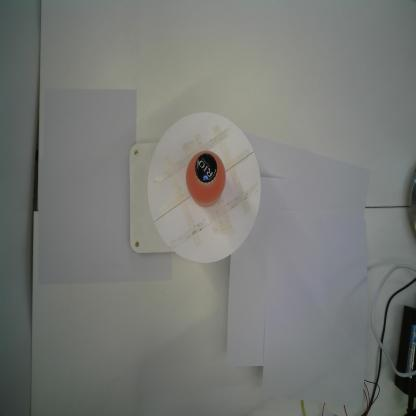Alcohol: (186, 150, 226, 209)
